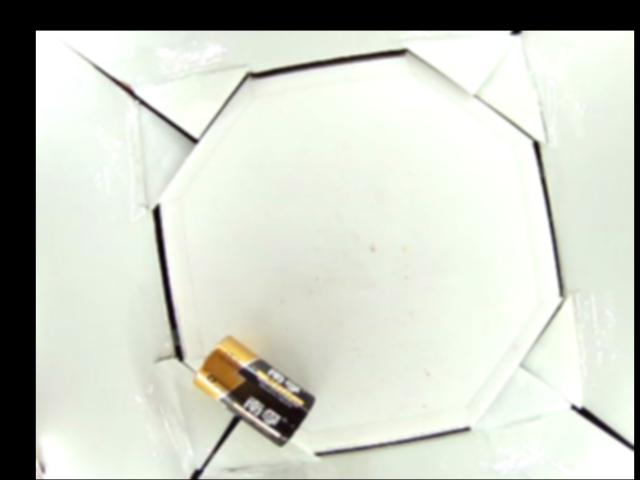Battery: (192, 335, 316, 445)
